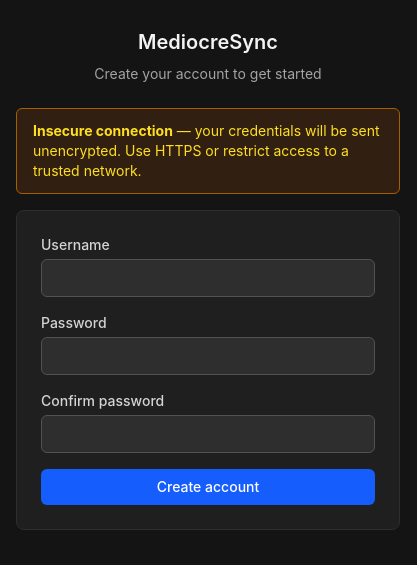
Test: SetupPage › shows API error message on setup failure
Type "admin" into the field at (208, 278), box [41,259,375,297]
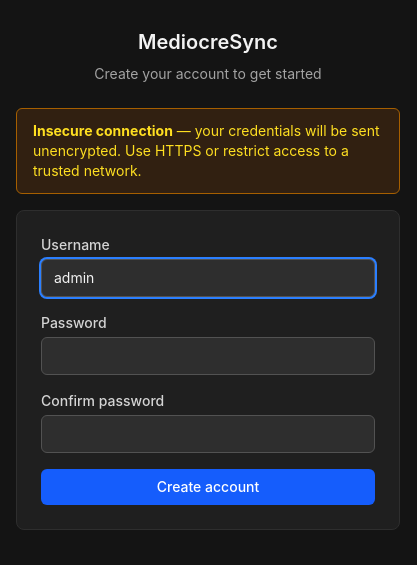
Type "secret" into the 1st password field at (208, 356), box [41,337,375,375]
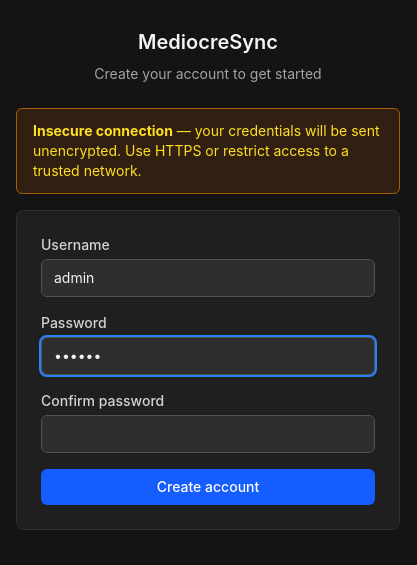
Type "secret" into the password field below "Confirm password" at (208, 434), box [41,415,375,453]
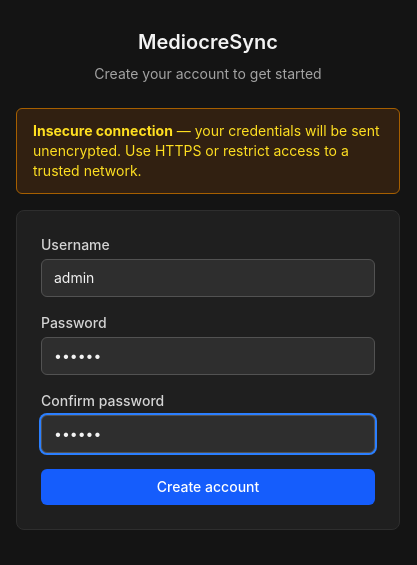
Click the button "Create account" at (208, 487), box [41,469,375,505]
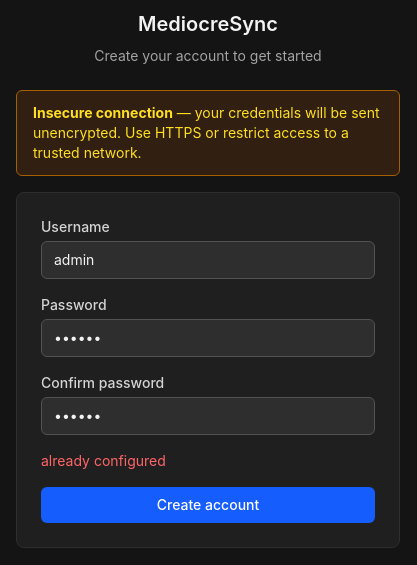
Check: the text "already configured" is shown, box [41,452,166,469]
